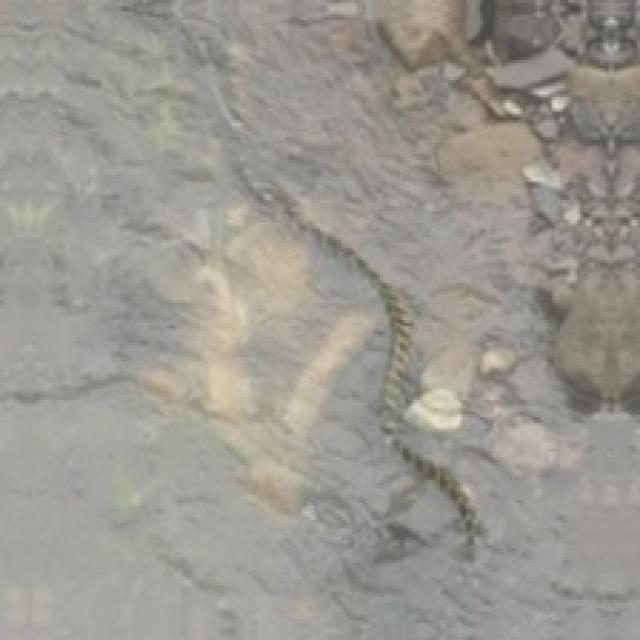mangrove cat snake: (237, 151, 480, 549), (229, 26, 360, 151)
